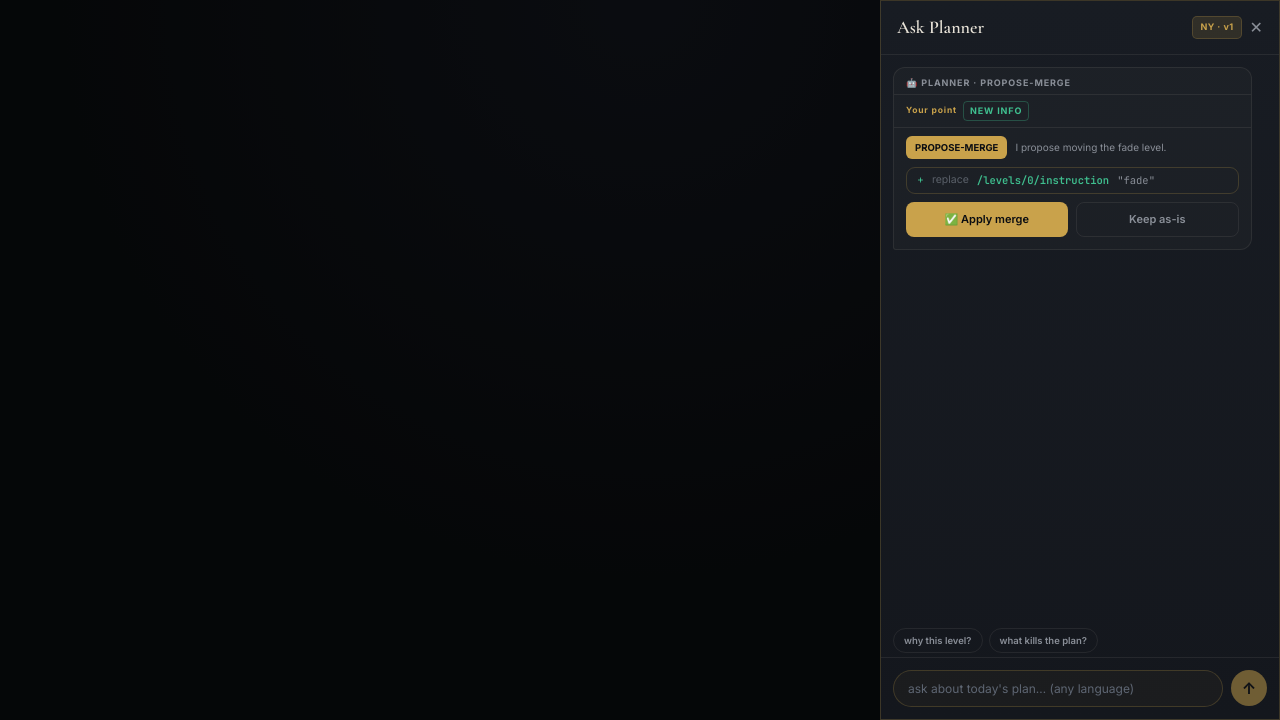
Scenario: Ask-Planner · decline is its own recorded outcome › after declining the card says the plan was NOT changed
Click the button with test id "ask-keep-as-is": (1157, 219) [1076,202,1239,237]
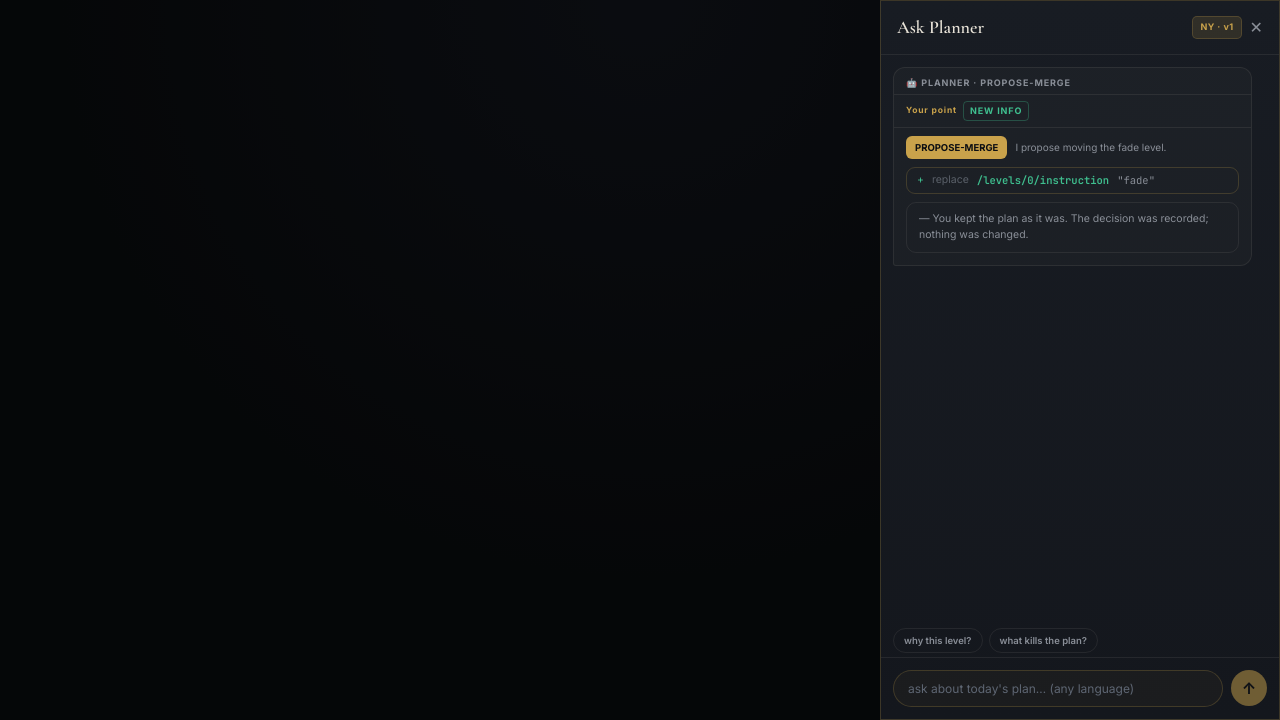
Result: the text with test id "ask-outcome-declined" is shown at [906,202,1239,253]
Result: the text with test id "ask-outcome-declined" shows "nothing was changed" at [919,212,1209,241]
